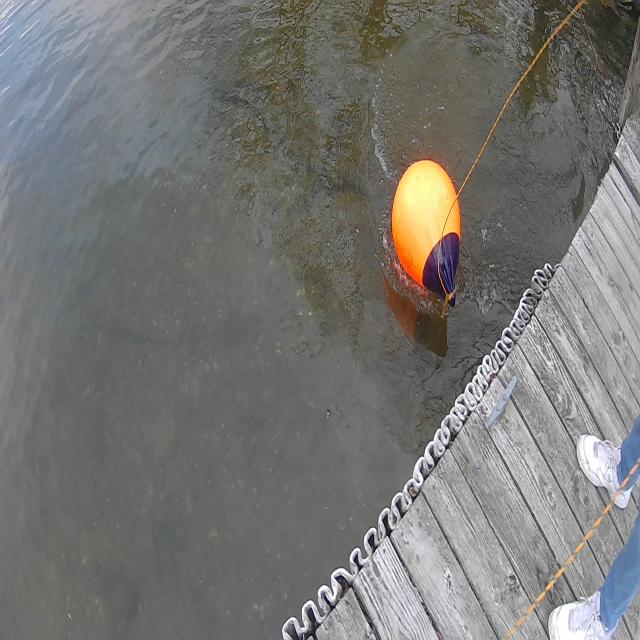Buoy: (388, 153, 468, 309)
